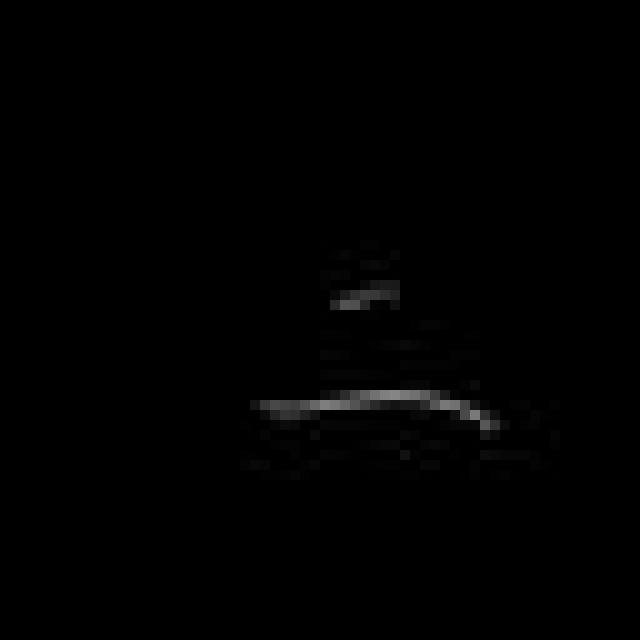2 -two-: (255, 274, 500, 452)
